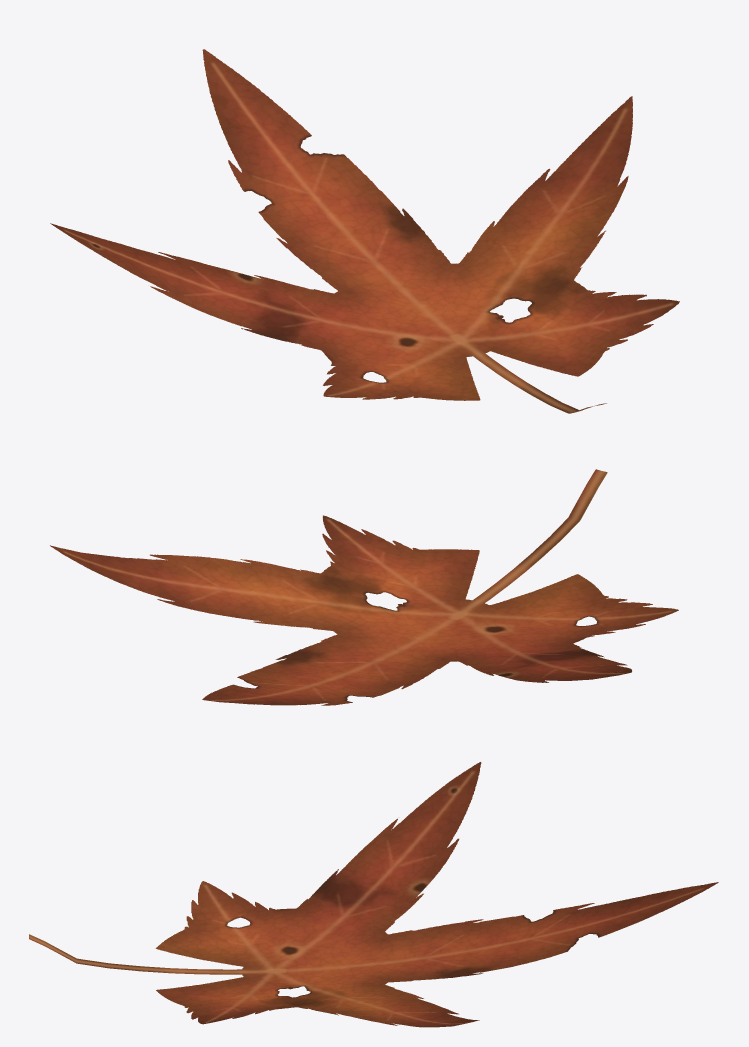
Rendered from Litter_Maple.gltf.
3 renders of one model, top to bottom at view 1: azimuth 30°, elevation 25°; view 2: azimuth 150°, elevation 25°; view 3: azimuth 270°, elevation 25°, orthographic. The views are drawn at different scales.
Visible parts, largest first — view 1: Litter_Maple; view 2: Litter_Maple; view 3: Litter_Maple.
Part boxes in pixels (x1,y1,x2,y2): Litter_Maple: (50,49,679,413); Litter_Maple: (50,469,678,705); Litter_Maple: (29,762,718,1027).
Bounding box in the file's own units: 0.8163 × 0.1494 × 0.9615.
Materials: 1 (1 with a texture image).
